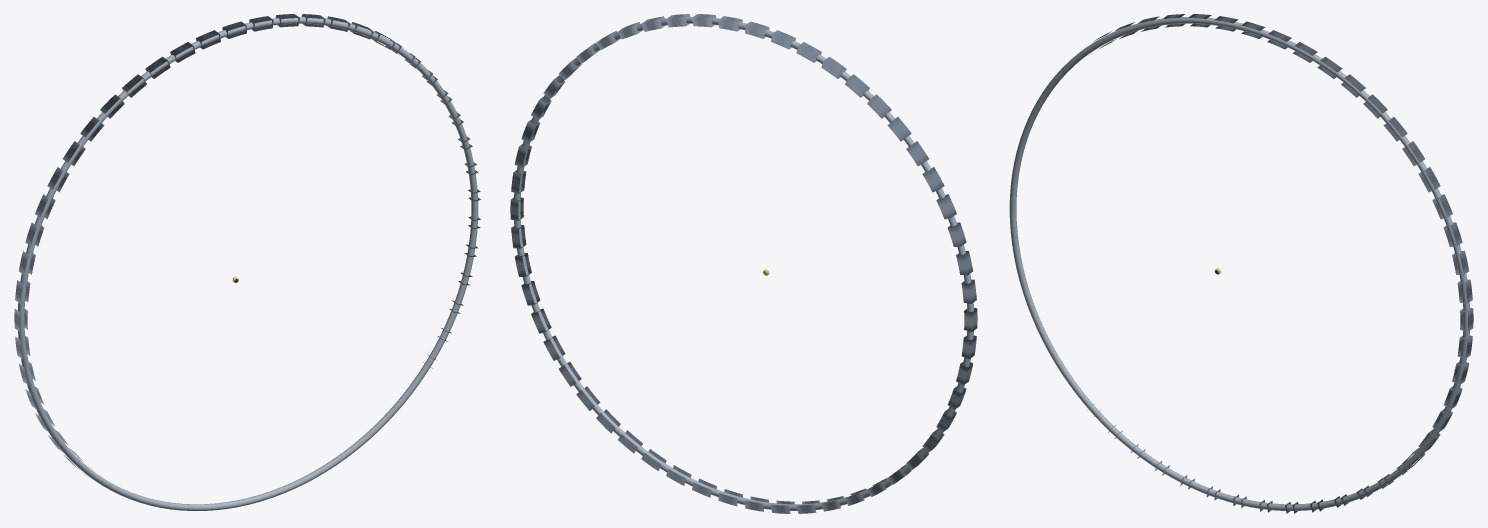
Rendered from 33_L87_RimDriveRotorMagnetArray.glb.
3 views of the same model, side by side, from view 1: azimuth 30°, elevation 25°; view 2: azimuth 150°, elevation 25°; view 3: azimuth 330°, elevation 25° (orthographic).
Parts seen in each view (by area): view 1: L87_RimDriveRotorMagnetArray_Part_0003, L87_RimDriveRotorMagnetArray_Part_0001, L87_RimDriveRotorMagnetArray_Part_0000; view 2: L87_RimDriveRotorMagnetArray_Part_0001, L87_RimDriveRotorMagnetArray_Part_0000, L87_RimDriveRotorMagnetArray_Part_0002, L87_RimDriveRotorMagnetArray_Part_0003; view 3: L87_RimDriveRotorMagnetArray_Part_0003, L87_RimDriveRotorMagnetArray_Part_0000, L87_RimDriveRotorMagnetArray_Part_0002.
Part boxes in pixels (x1,y1,x2,y2): L87_RimDriveRotorMagnetArray_Part_0003: (18,17,478,510); L87_RimDriveRotorMagnetArray_Part_0001: (14,74,146,477); L87_RimDriveRotorMagnetArray_Part_0000: (145,14,480,220); L87_RimDriveRotorMagnetArray_Part_0001: (845,74,977,496); L87_RimDriveRotorMagnetArray_Part_0000: (510,14,846,220); L87_RimDriveRotorMagnetArray_Part_0002: (511,225,869,513); L87_RimDriveRotorMagnetArray_Part_0003: (514,17,973,510); L87_RimDriveRotorMagnetArray_Part_0003: (1009,17,1469,510); L87_RimDriveRotorMagnetArray_Part_0000: (1137,14,1473,331); L87_RimDriveRotorMagnetArray_Part_0002: (1114,335,1472,513).
Bounding box in the file's own units: 11.25 × 11.25 × 0.367.
